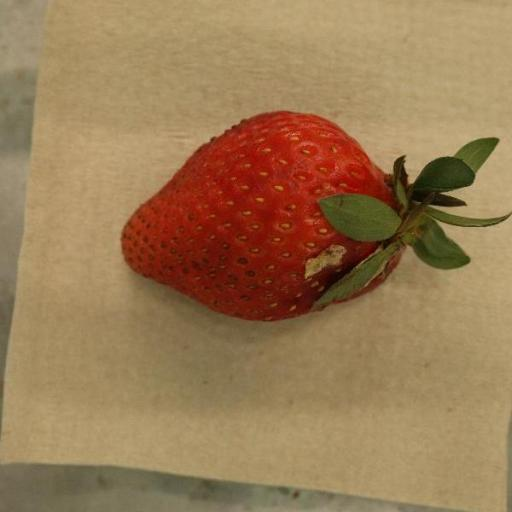Strawberry: (120, 111, 512, 322)
